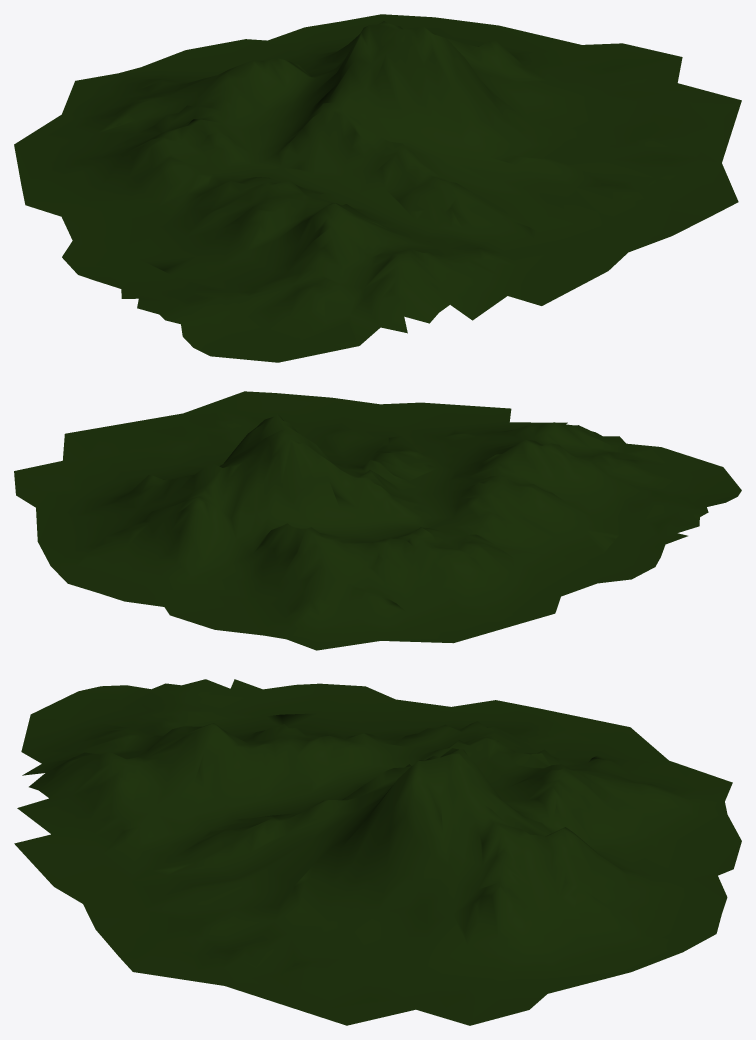
File: Mountain V03.FBX
3 views of the same model, one above another, from view 1: azimuth 30°, elevation 25°; view 2: azimuth 150°, elevation 25°; view 3: azimuth 270°, elevation 25° (orthographic). The views are drawn at different scales.
Visible parts, largest first — view 1: Mountain V03; view 2: Mountain V03; view 3: Mountain V03.
Boxes of the visible parts, left/top/right/bottom form: Mountain V03: left=14, top=14, right=741, bottom=362; Mountain V03: left=14, top=391, right=741, bottom=650; Mountain V03: left=14, top=679, right=741, bottom=1025.
Size of the model in its own units: 19.18 by 3.19 by 17.26.
